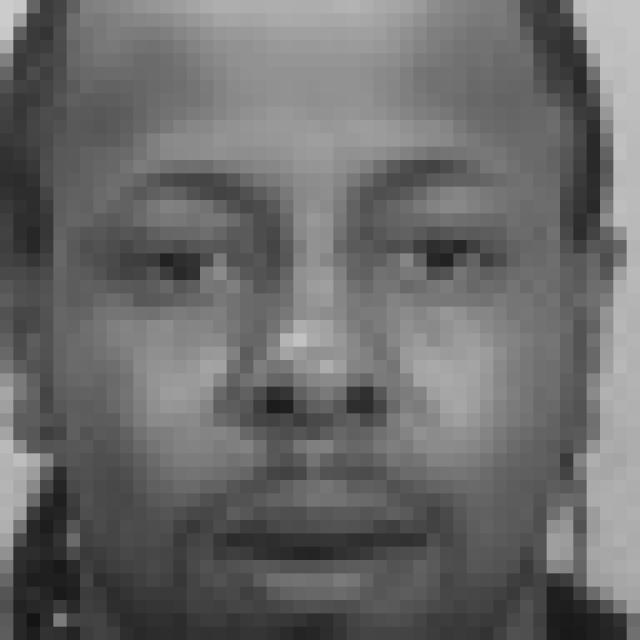neutral: (105, 154, 524, 640)
